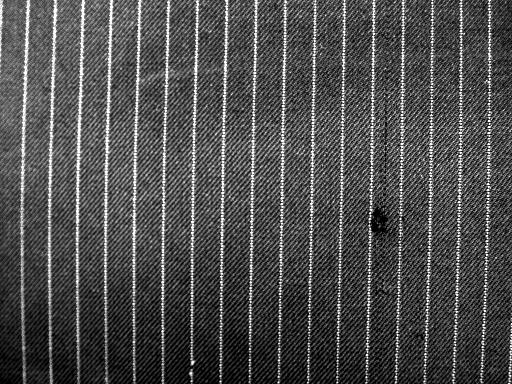fabric_hole: (352, 105, 427, 250)
